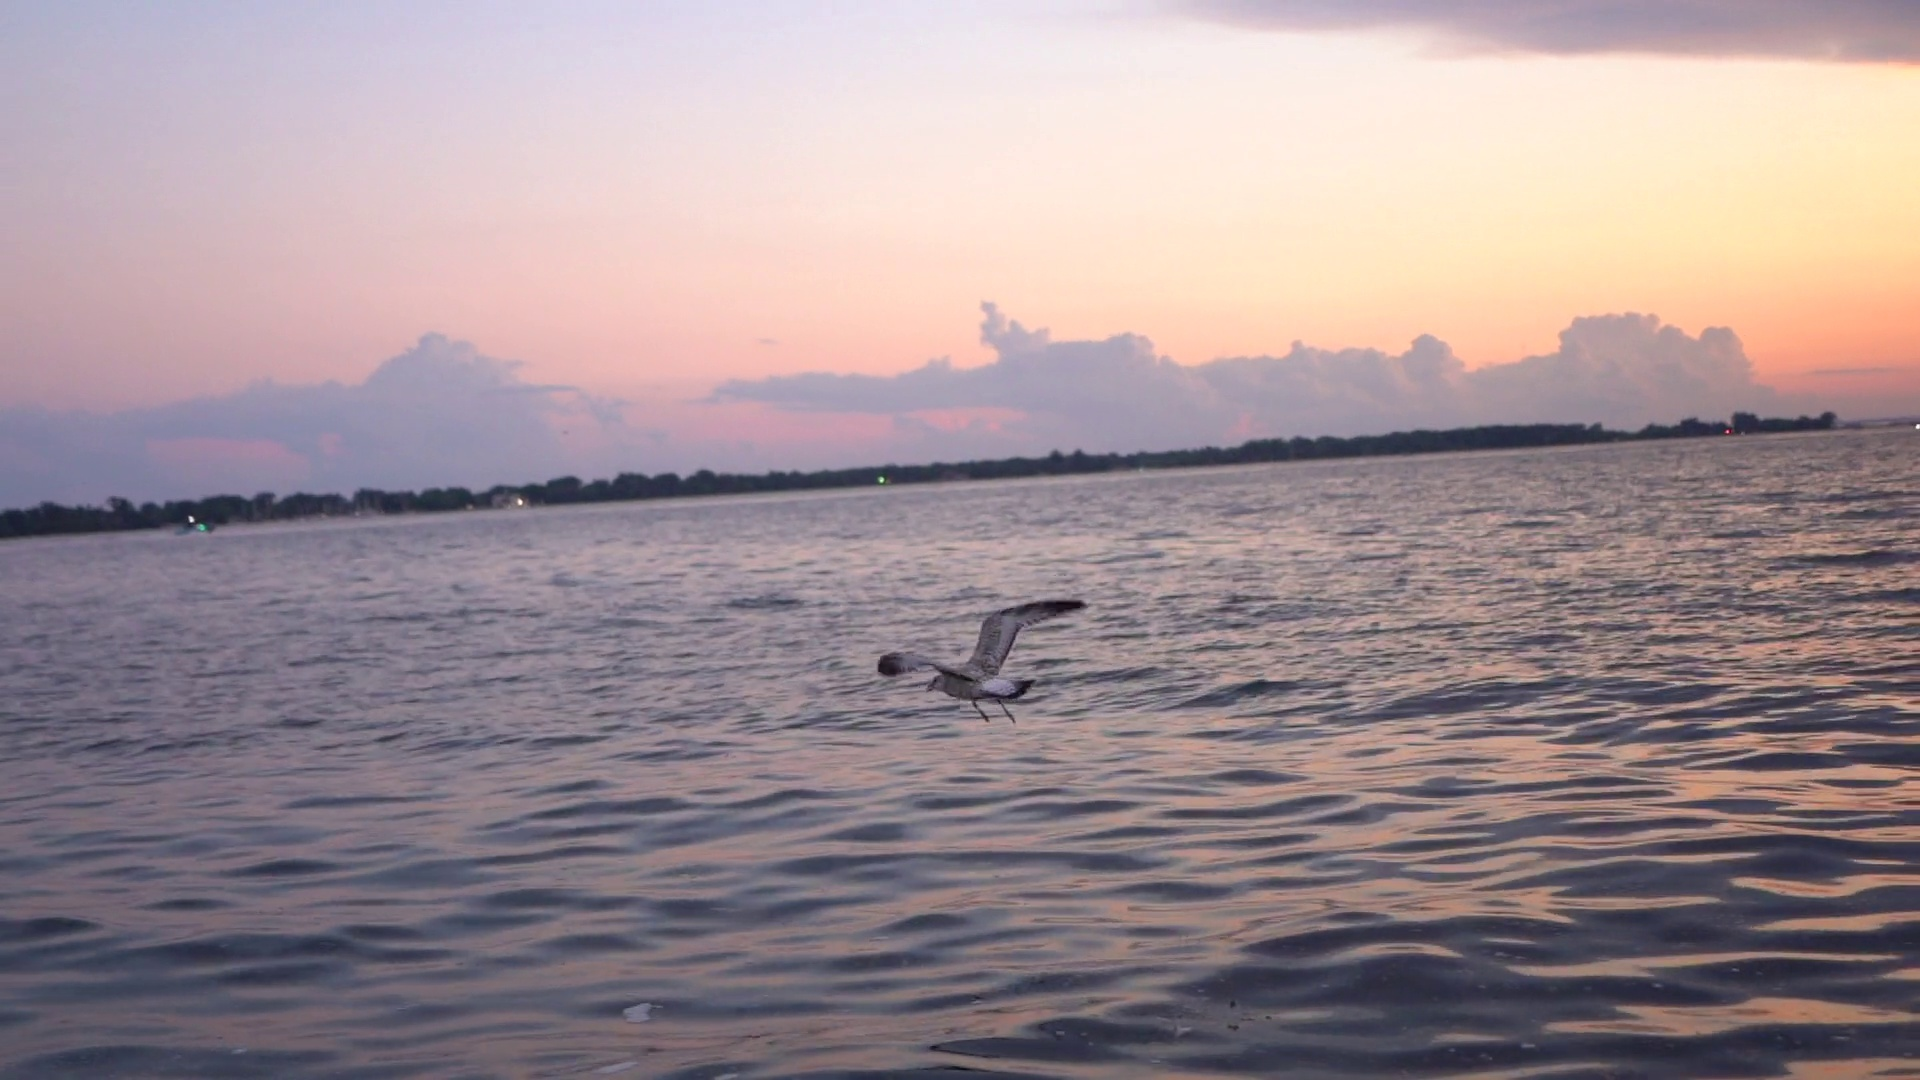bird: (876, 603, 1085, 721)
